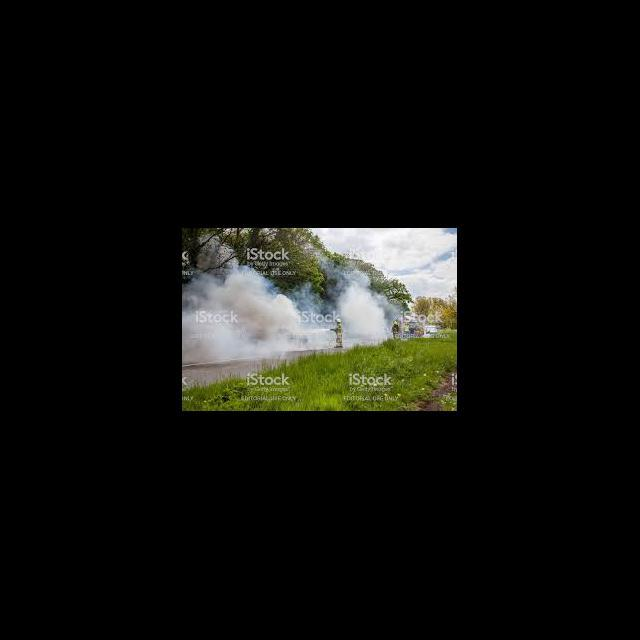Smoke: (183, 268, 256, 363), (257, 274, 332, 358), (346, 274, 386, 340)
